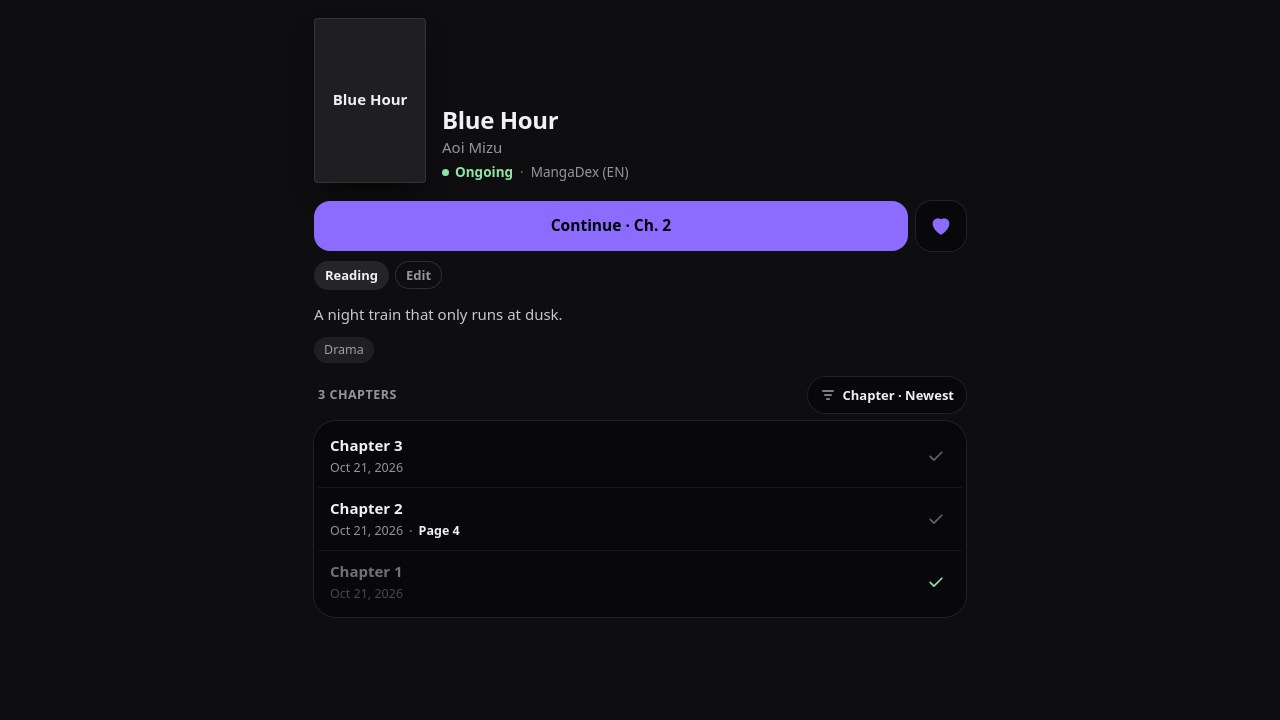
Test: categories › removes the title from the library when every category is unticked
Click the button with aria-label "Edit categories": coordinates (419, 275) x1=395 y1=261 x2=442 y2=289
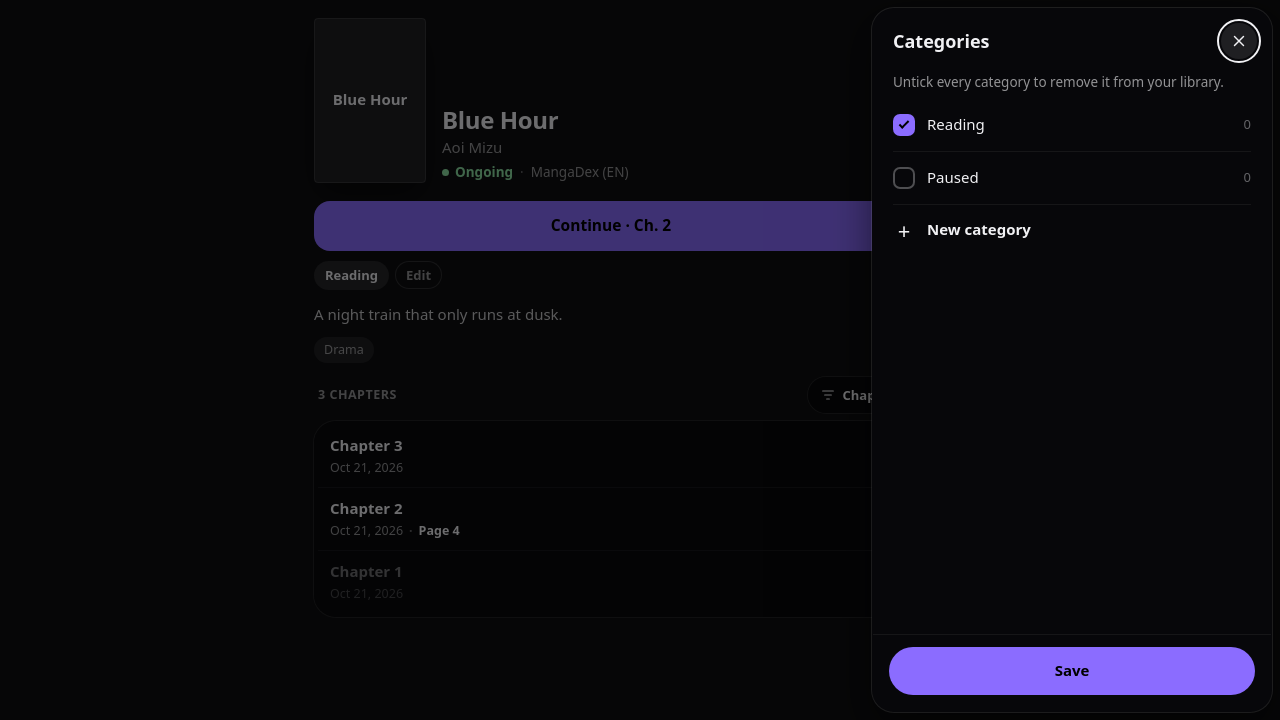
Click the checkbox labelled "Reading 0": coordinates (904, 125) x1=893 y1=114 x2=915 y2=136
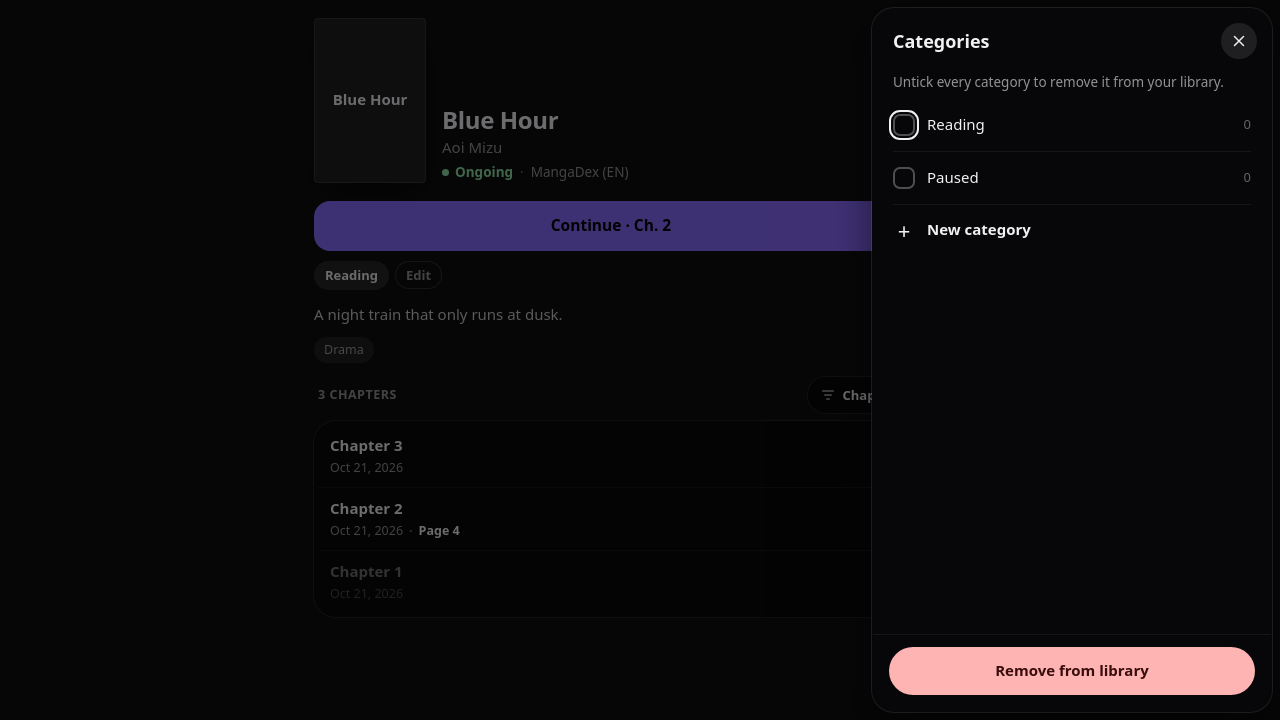
Click the button "Remove from library": coordinates (1072, 671) x1=889 y1=647 x2=1255 y2=695
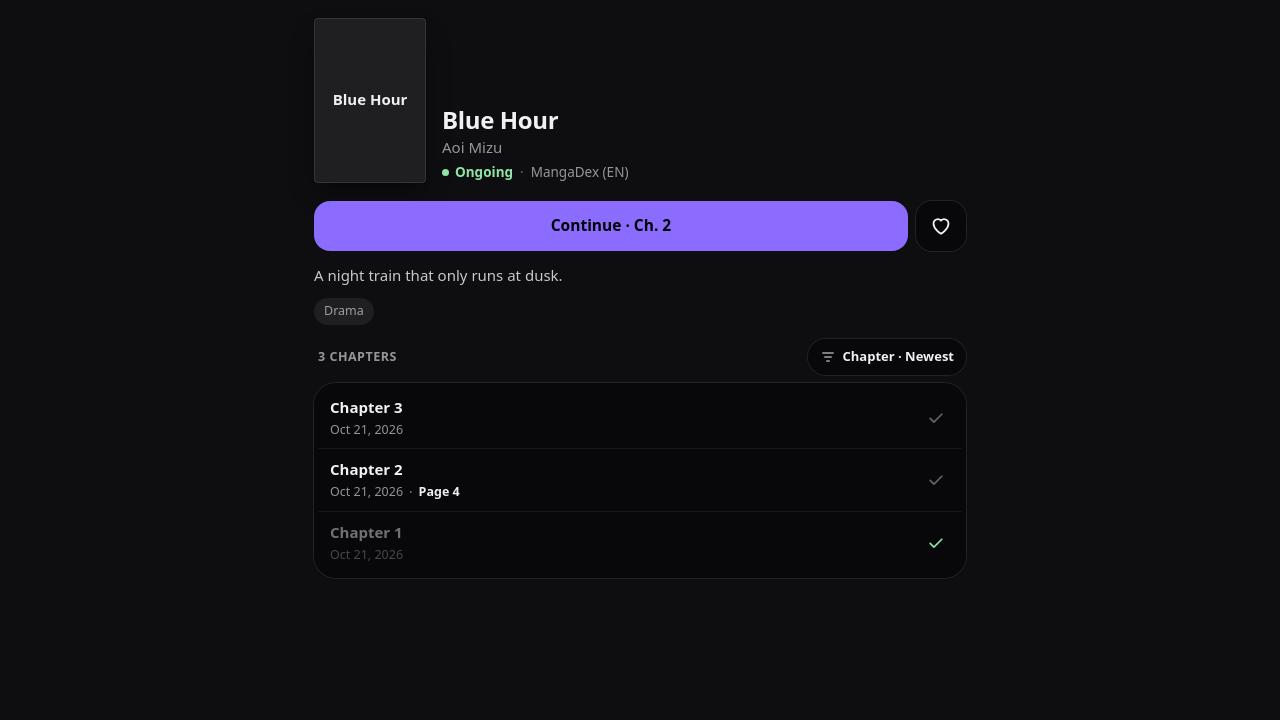
Expected: the button named "Add to library" is shown, x1=916 y1=201 x2=966 y2=251
